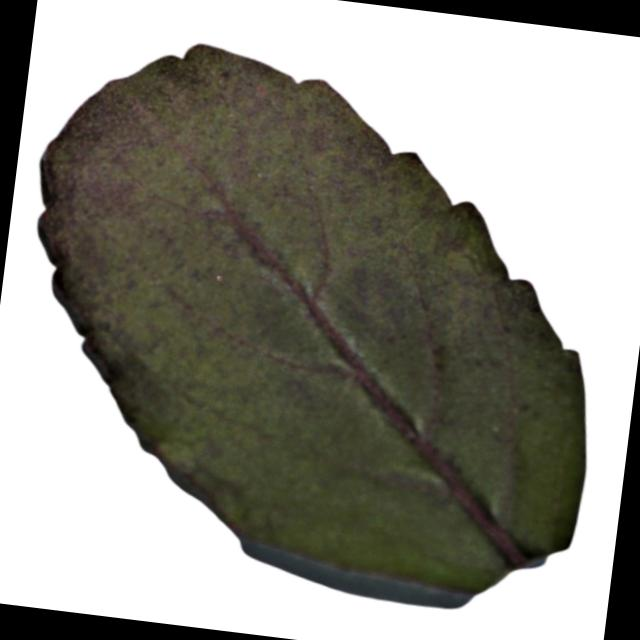tulsi: (0, 18, 635, 628)
